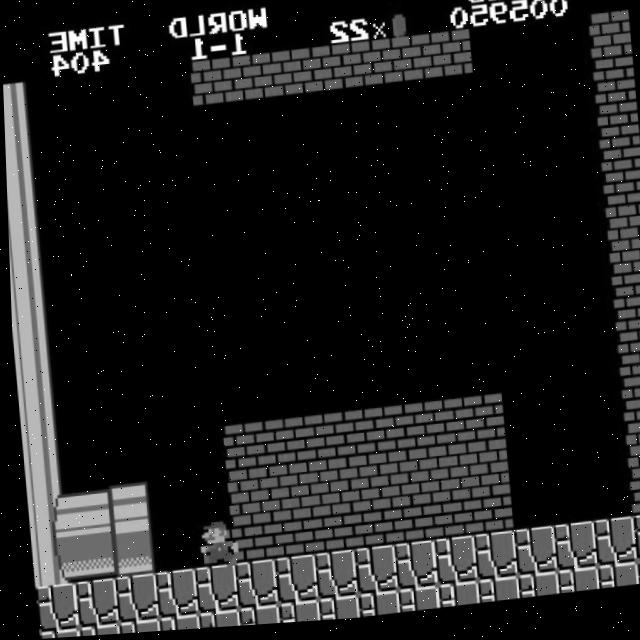1- brick_block: (428, 36, 473, 86), (388, 40, 433, 90), (348, 44, 393, 94), (308, 49, 353, 99), (298, 417, 343, 467), (386, 499, 430, 550), (346, 503, 390, 554), (458, 400, 502, 450), (462, 446, 506, 496), (466, 491, 510, 541), (418, 404, 462, 454), (422, 450, 466, 500), (426, 495, 470, 545), (382, 454, 426, 504), (342, 458, 386, 508), (269, 53, 313, 103), (302, 463, 346, 513), (306, 508, 350, 558), (229, 57, 273, 107), (259, 421, 303, 471), (262, 467, 306, 517), (266, 512, 310, 562), (189, 61, 233, 111), (219, 425, 263, 475), (222, 471, 266, 521), (226, 516, 270, 566), (378, 409, 422, 458), (338, 413, 382, 462), (588, 19, 631, 69), (592, 64, 635, 114), (596, 110, 639, 160), (599, 155, 640, 205), (603, 201, 640, 251), (606, 246, 640, 296), (610, 291, 640, 342), (614, 337, 640, 387), (617, 383, 640, 432), (621, 429, 640, 478), (625, 474, 640, 524)
11- little_mario: (191, 519, 238, 573)
14- pipe: (12, 354, 57, 404), (27, 537, 72, 587), (23, 492, 68, 541), (63, 488, 107, 538), (67, 533, 111, 583), (16, 400, 60, 450), (20, 446, 64, 495), (9, 309, 52, 358), (8, 263, 49, 313), (6, 218, 45, 268), (5, 173, 41, 222), (4, 127, 38, 176), (2, 81, 34, 131)
15- pipe_head: (107, 528, 151, 579), (103, 484, 147, 534)
17- undestructible_block: (389, 545, 434, 595), (549, 528, 593, 579), (509, 532, 553, 583), (350, 549, 394, 600), (310, 553, 354, 604), (150, 570, 194, 621), (110, 574, 154, 625), (70, 578, 114, 629), (589, 524, 633, 574), (469, 537, 513, 587), (429, 541, 473, 591), (270, 558, 314, 608), (230, 562, 274, 612), (190, 566, 234, 616), (31, 583, 75, 633), (473, 582, 515, 610), (393, 591, 436, 618), (353, 595, 396, 622), (313, 598, 356, 625), (593, 570, 635, 597), (553, 574, 595, 601), (513, 578, 555, 605), (433, 587, 475, 614), (273, 602, 316, 627), (233, 608, 276, 629), (193, 612, 236, 631), (153, 616, 196, 633), (113, 620, 156, 635), (73, 624, 116, 637), (629, 520, 640, 570), (34, 628, 77, 639), (632, 566, 640, 592)
